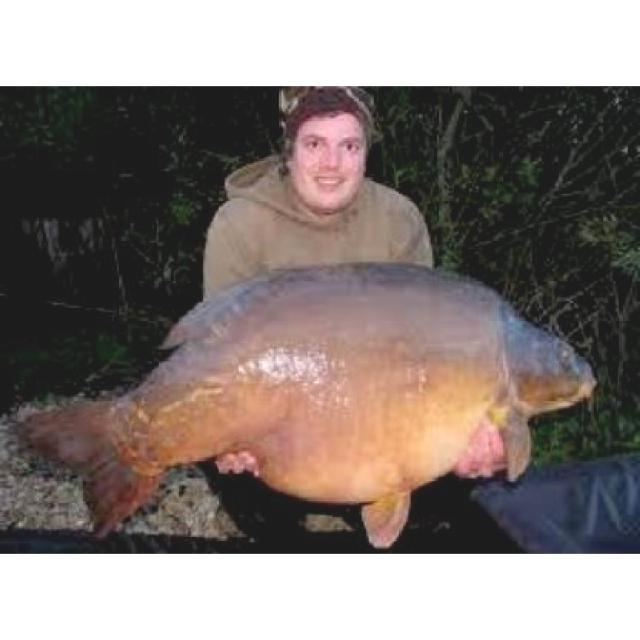ikan-mas: (65, 262, 598, 507)
